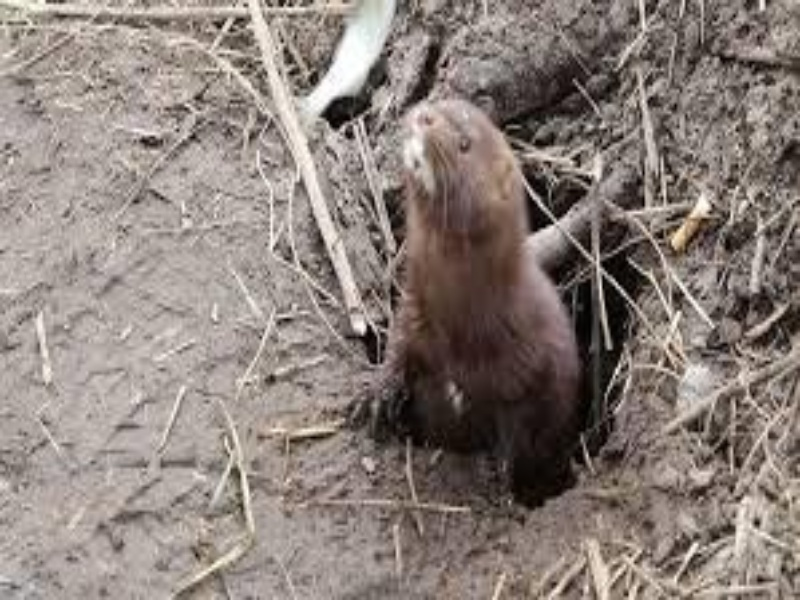minkish: (340, 90, 591, 488)
